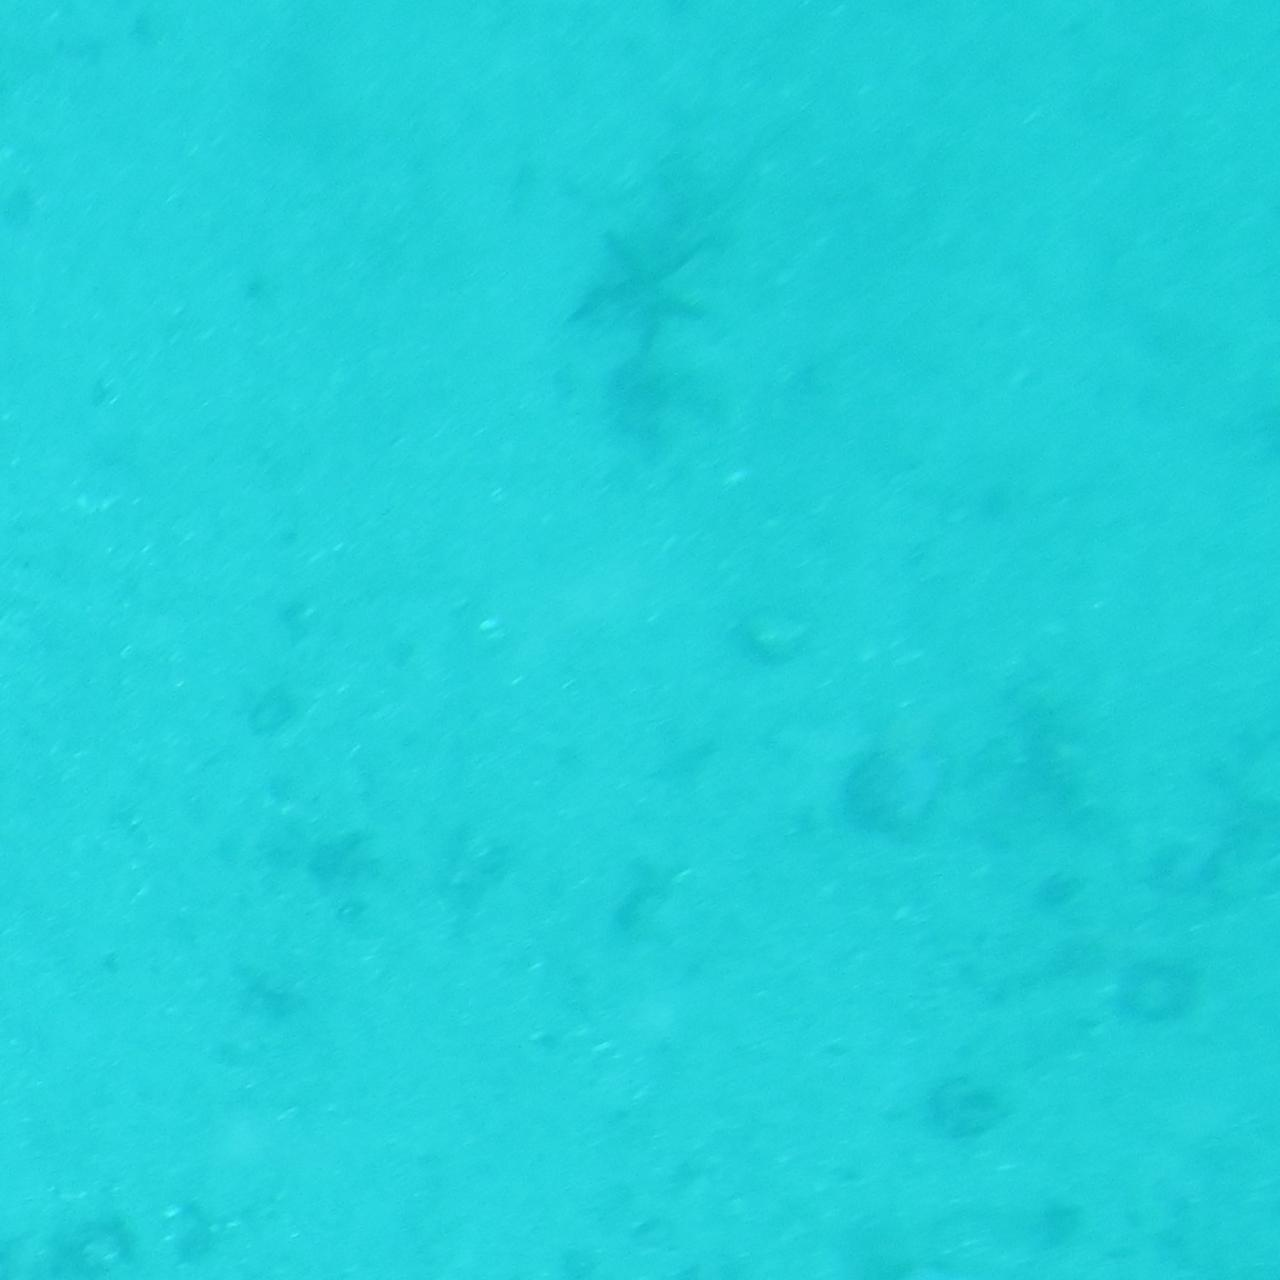Asteroidea: (563, 222, 717, 356)
